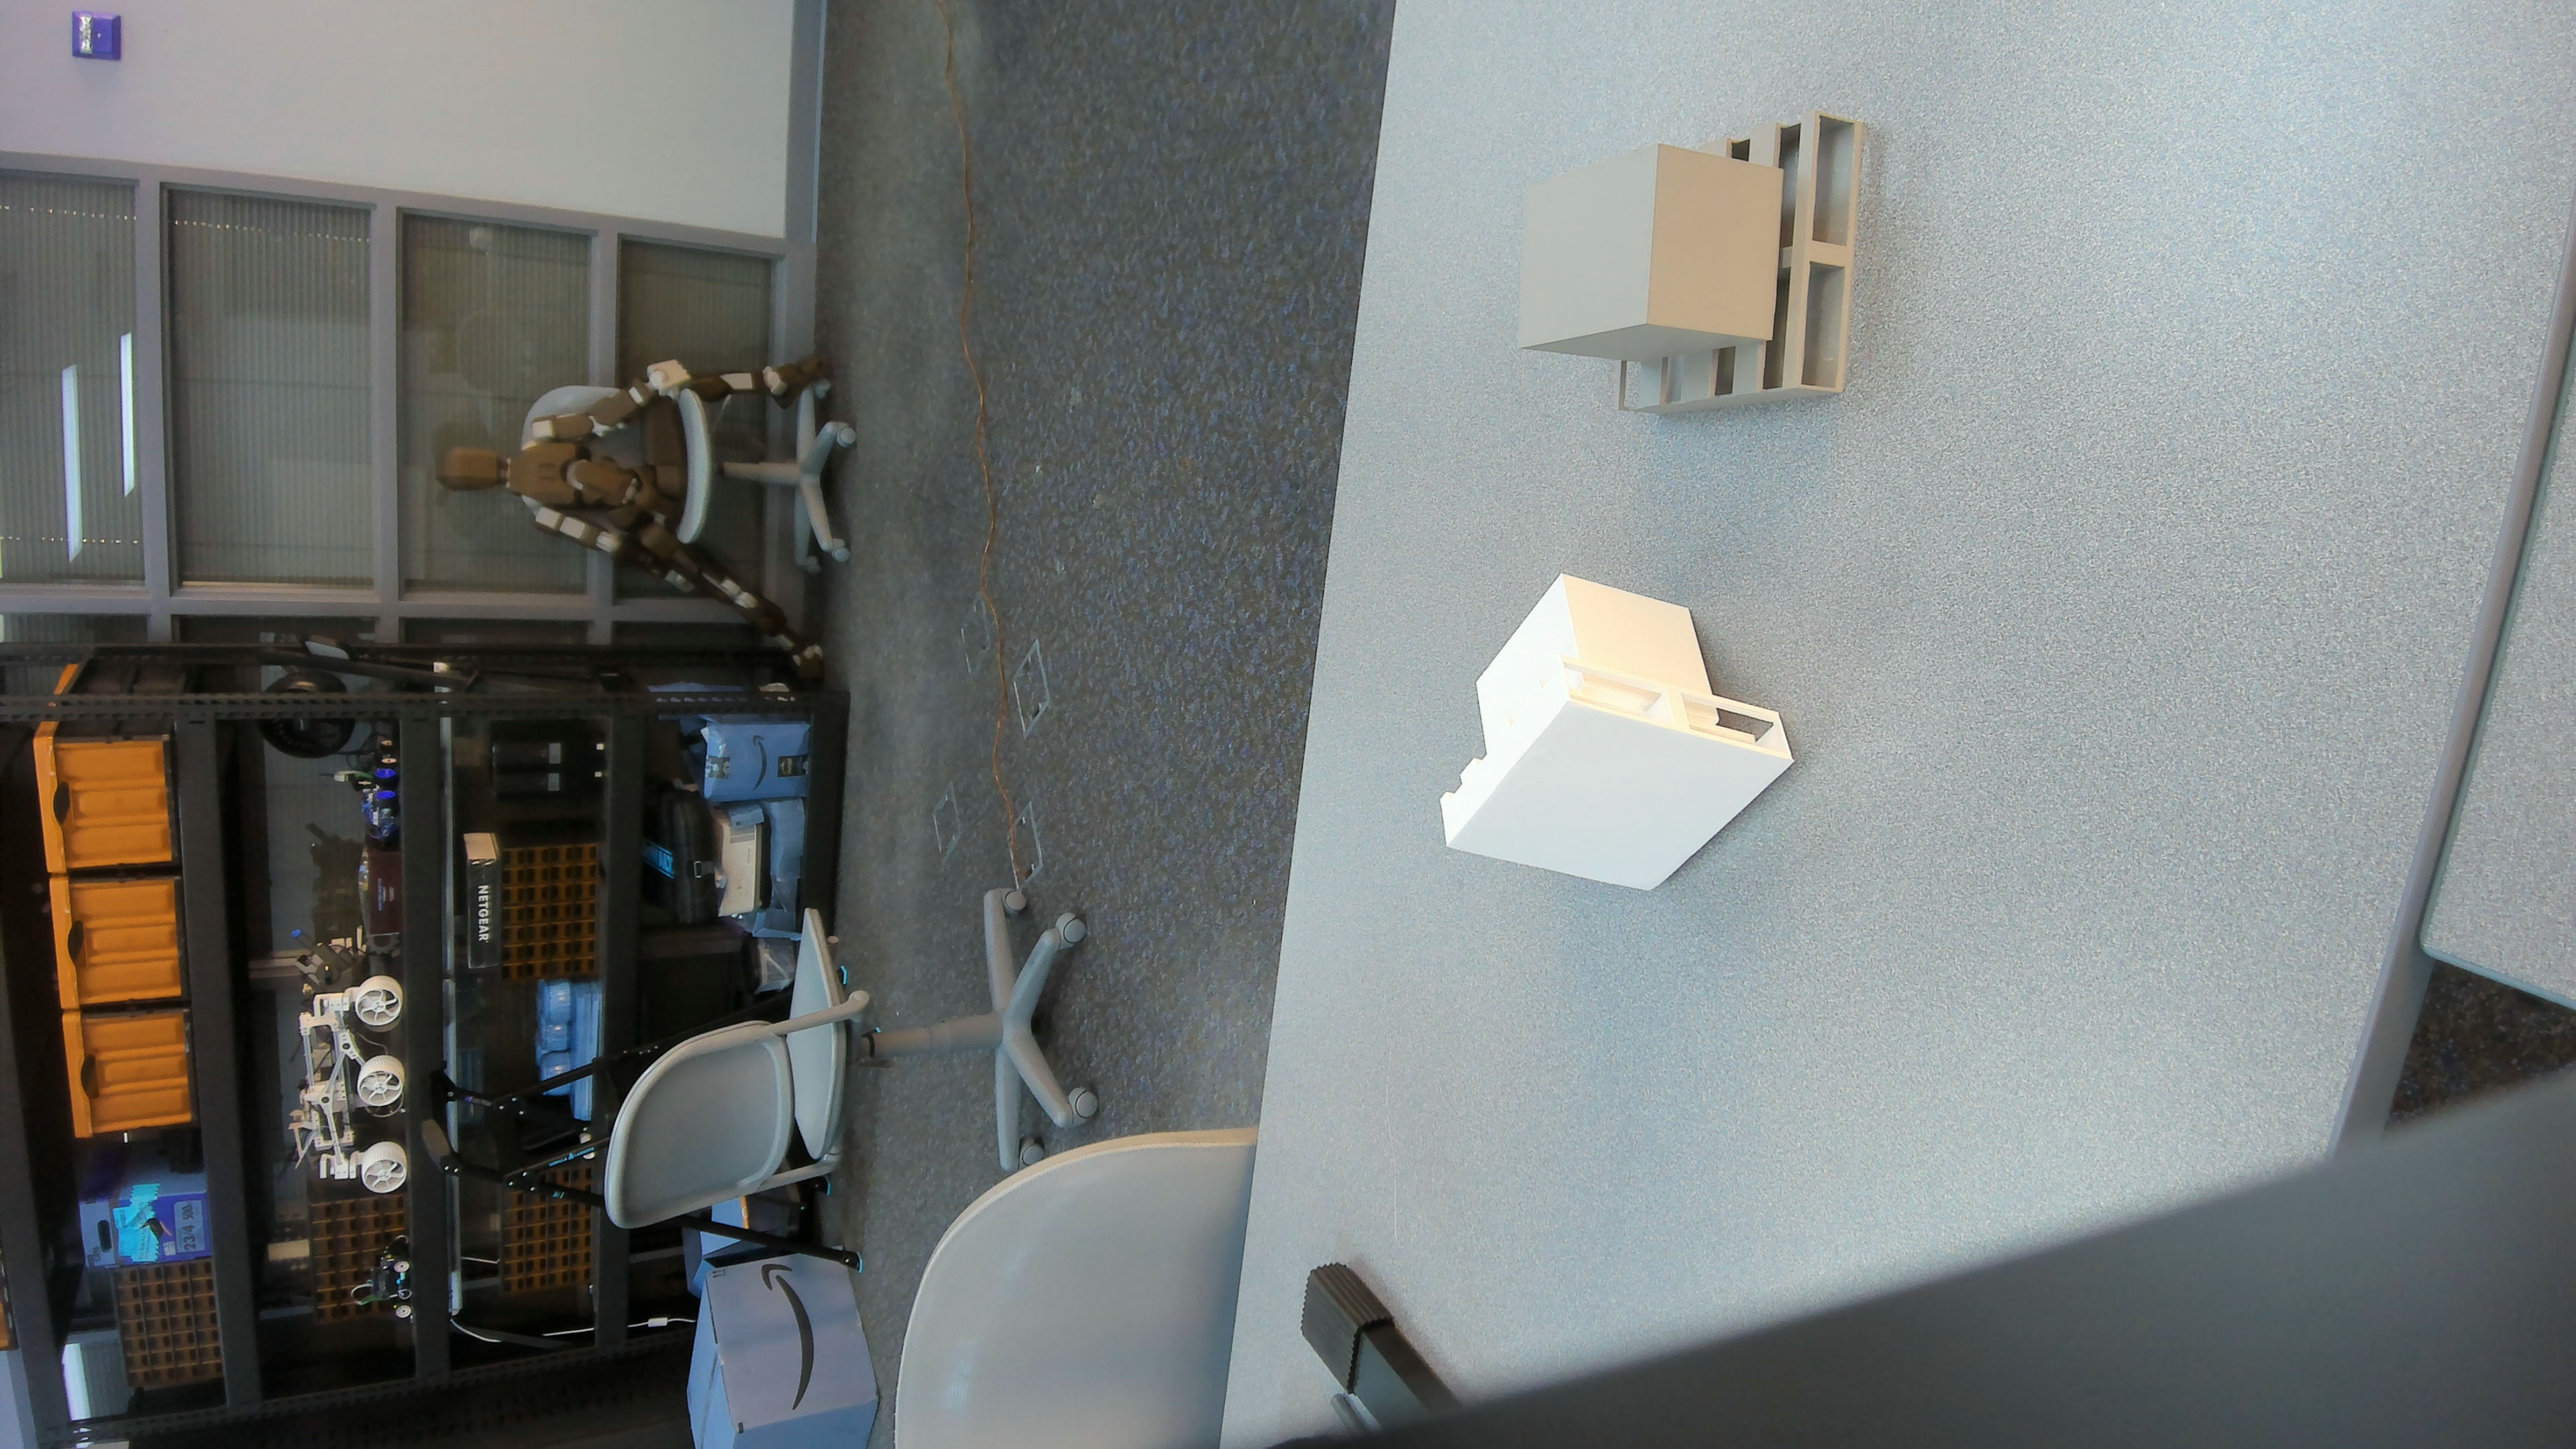grey pallet: (1502, 99, 1905, 430)
white pallet: (1431, 570, 1810, 918)
